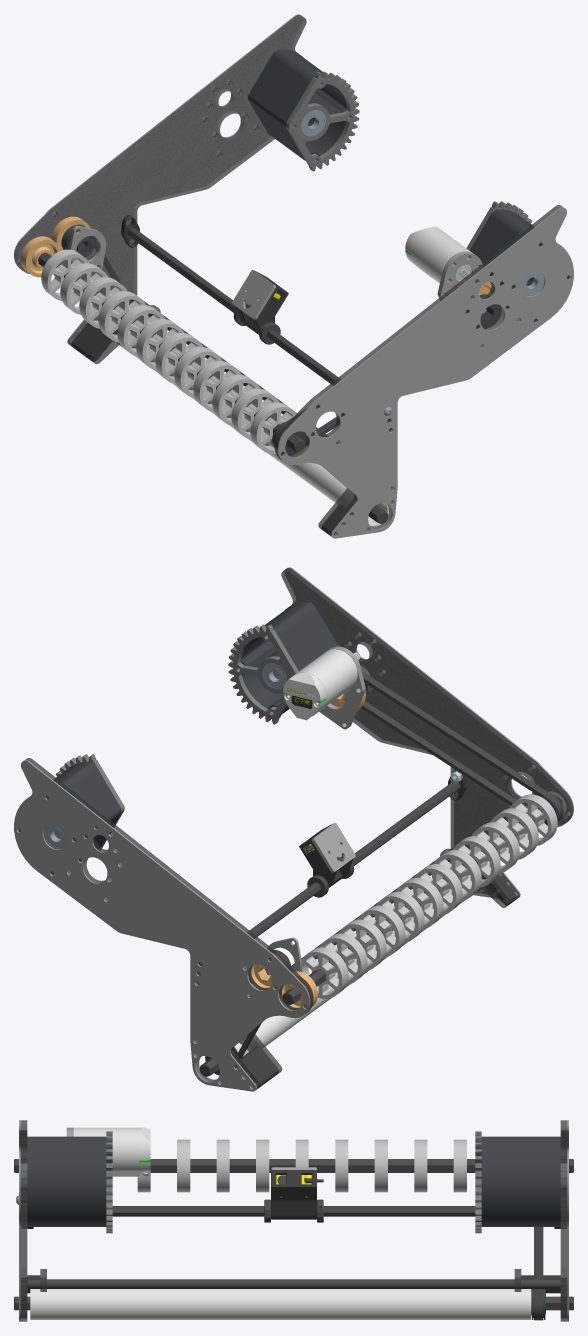
The picture shows the model from 3 angles, top to bottom: view 1: azimuth 30°, elevation 25°; view 2: azimuth 150°, elevation 25°; view 3: azimuth 270°, elevation 25°; orthographic projection. The views are drawn at different scales.
Parts seen in each view (by area): view 1: 581-25I0204, 581-25I0201 Mirror, 581-25I0204 Mirror, 2" OD 30A Straight Flex Wheel (217-6353) (×12), printed spacer (×2), Spur gear (40 teeth), 581-25I0201, VEX-THND-375-20.25-TAP, WCP-0941, Tube, 581-25I0212, 581-25I0206 (+5 smaller); view 2: 581-25I0204 Mirror, 581-25I0201, 581-25I0204, 2" OD 30A Straight Flex Wheel (217-6353) (×12), printed spacer (×2), 5mmBelt-115-9mm-18-18, 581-25I0201 Mirror, WCP-0941, Spur gear (40 teeth), VEX-THND-375-20.25-TAP, Tube, 581-25I0206 (+4 smaller); view 3: Tube, printed spacer (×2), 2" OD 30A Straight Flex Wheel (217-6353) (×8), VEX-TUBE-375-20.25-TAP, VEX-HEX-500-21.25-TAP (×2), VEX-THND-375-20.25-TAP, WCP-0941, 581-25I0211, 581-25I0201, 581-25I0201 Mirror, Spur gear (40 teeth) (×2), 5mmBelt-70-9mm-18-18 (+2 smaller).
Boxes of the visible parts, x1,y1,x2,y2 form: 581-25I0204: [277, 207, 573, 538]; 581-25I0201 Mirror: [14, 15, 306, 346]; 581-25I0204 Mirror: [14, 14, 303, 345]; 2" OD 30A Straight Flex Wheel (217-6353) (×12): [41, 249, 296, 454]; printed spacer (×2): [247, 49, 568, 321]; Spur gear (40 teeth): [286, 71, 359, 171]; 581-25I0201: [274, 205, 570, 536]; VEX-THND-375-20.25-TAP: [127, 227, 388, 420]; WCP-0941: [405, 226, 482, 287]; Tube: [131, 343, 388, 526]; 581-25I0212: [232, 270, 275, 319]; 581-25I0206: [437, 251, 482, 300]; 581-25I0204 Mirror: [14, 760, 310, 1091]; 581-25I0201: [281, 568, 573, 899]; 581-25I0204: [284, 567, 573, 898]; 2" OD 30A Straight Flex Wheel (217-6353) (×12): [300, 794, 557, 998]; printed spacer (×2): [18, 602, 338, 874]; 5mmBelt-115-9mm-18-18: [361, 671, 562, 821]; 581-25I0201 Mirror: [17, 758, 313, 1089]; WCP-0941: [283, 649, 360, 716]; Spur gear (40 teeth): [228, 624, 298, 724]; VEX-THND-375-20.25-TAP: [199, 782, 460, 973]; Tube: [234, 888, 467, 1056]; 581-25I0206: [319, 646, 365, 729]; Tube: [30, 1289, 531, 1319]; printed spacer (×2): [27, 1136, 560, 1226]; 2" OD 30A Straight Flex Wheel (217-6353) (×8): [177, 1139, 466, 1192]; VEX-TUBE-375-20.25-TAP: [27, 1279, 560, 1288]; VEX-HEX-500-21.25-TAP (×2): [14, 1159, 573, 1310]; VEX-THND-375-20.25-TAP: [112, 1206, 475, 1216]; WCP-0941: [73, 1127, 150, 1176]; 581-25I0211: [271, 1170, 316, 1219]; 581-25I0201: [20, 1120, 27, 1321]; 581-25I0201 Mirror: [560, 1120, 567, 1321]; Spur gear (40 teeth) (×2): [106, 1131, 481, 1233]; 5mmBelt-70-9mm-18-18: [534, 1227, 543, 1320].
Bounding box in the file's own units: 0.3512 × 0.3094 × 0.5397.
